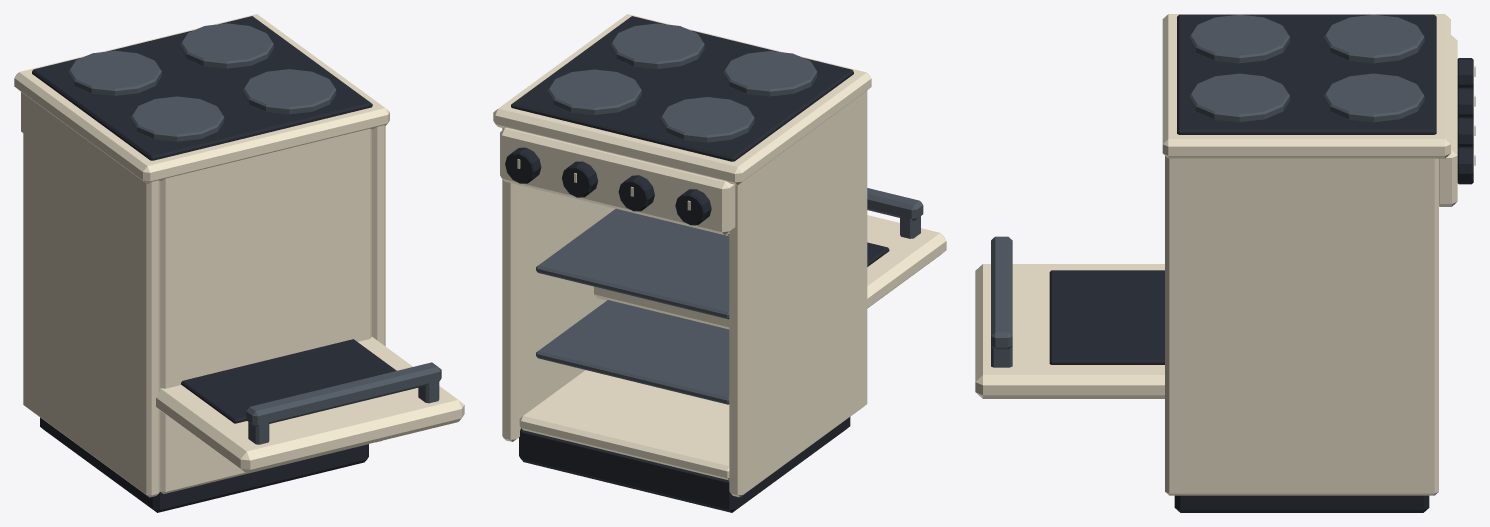
Rendered from Stove.fbx.
3 renders of one model, left to right at view 1: azimuth 30°, elevation 25°; view 2: azimuth 150°, elevation 25°; view 3: azimuth 270°, elevation 25°, orthographic. The views are drawn at different scales.
Parts seen in each view (by area): view 1: Carcass, OvenDoor; view 2: Carcass, OvenDoor; view 3: Carcass, OvenDoor.
Boxes of the visible parts, box(x1,y1,x2,y2) form: Carcass: box(14, 14, 389, 512); OvenDoor: box(156, 337, 464, 473); Carcass: box(493, 14, 871, 512); OvenDoor: box(594, 188, 946, 329); Carcass: box(1162, 14, 1475, 512); OvenDoor: box(975, 236, 1164, 398).
Size of the model in its own units: 0.64 by 0.905 by 1.04.
